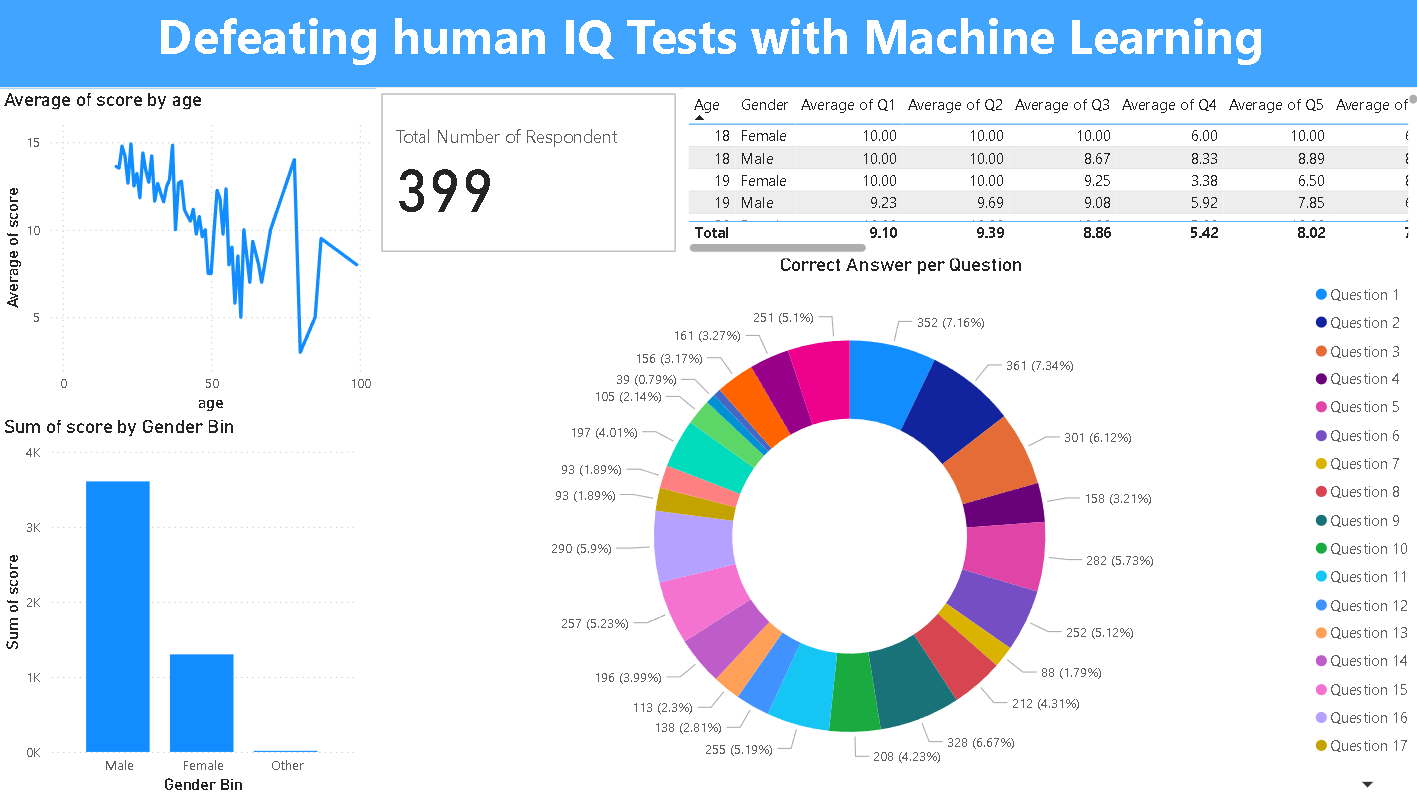

Layout of this report page (visuals, bound fields, positions):
{"tool":"powerbi","page":{"name":"Page 1","canvas":[1280,720],"ordinal":0},"visuals":[{"type":"lineChart","fields":{"Category":["data.age"],"Y":["Avg(data.score)"]},"box":[0,82.7,339.7,294.9],"z":0},{"type":"lineClusteredColumnComboChart","fields":{"Category":["data.Gender Bin"],"Y":["Sum(data.score)"]},"box":[0,375.7,325.1,344.6],"z":1000},{"type":"textbox","box":[0,0,1280,82.7],"z":2000},{"type":"donutChart","title":"Correct Answer per Question","fields":{"Y":["data.CountQ1_10","data.CountQ2_10","data.CountQ3_10","data.CountQ4_10","data.CountQ5_10","data.CountQ6_10","data.CountQ7_10","data.CountQ8_10","data.CountQ9_10","data.CountQ10_10","data.CountQ11_10","data.CountQ12_10"]},"box":[341.7,230.7,938.3,489.6],"z":3000},{"type":"cardVisual","fields":{"Data":["data.Total_ProductID_Count"]},"box":[339.7,82.7,274.5,152.8],"z":4000},{"type":"tableEx","fields":{"Values":["data.age","data.Gender Bin","Avg(data.Q1)","Avg(data.Q2)","Avg(data.Q3)","Avg(data.Q4)","Avg(data.Q5)","Avg(data.Q6)","Avg(data.Q7)","Avg(data.Q8)","Avg(data.Q9)","Avg(data.Q10)"]},"box":[614.2,82.7,665.8,152.8],"z":5000}]}

Visuals, with their boxes in screenshot pixels (x1, y1, x2, y2), scaled from the page's 1280x720 canvas onto the 1417x797 screenshot:
lineChart - data.age x Avg(data.score): l=0, t=92, r=376, b=418
lineClusteredColumnComboChart - data.Gender Bin x Sum(data.score): l=0, t=416, r=360, b=796
textbox: l=0, t=0, r=1416, b=92
"Correct Answer per Question" donutChart: l=378, t=255, r=1416, b=796
cardVisual - data.Total_ProductID_Count: l=376, t=92, r=680, b=261
tableEx - data.age x data.Gender Bin: l=680, t=92, r=1416, b=261
